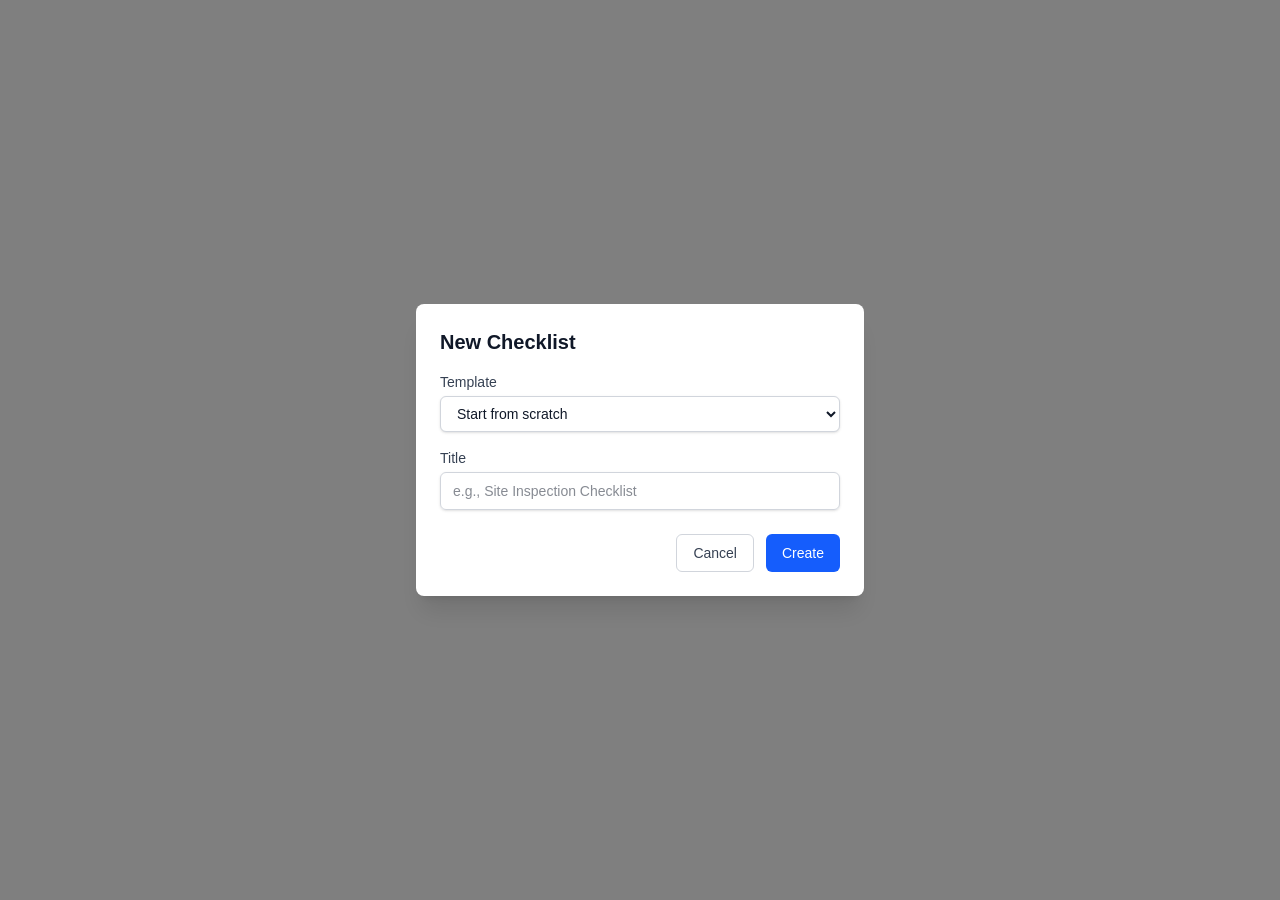
it: CreateChecklistModal › should show error message on insert error
In the field labelled "Title": (640, 491) x1=440 y1=472 x2=840 y2=510, type "Test Checklist"
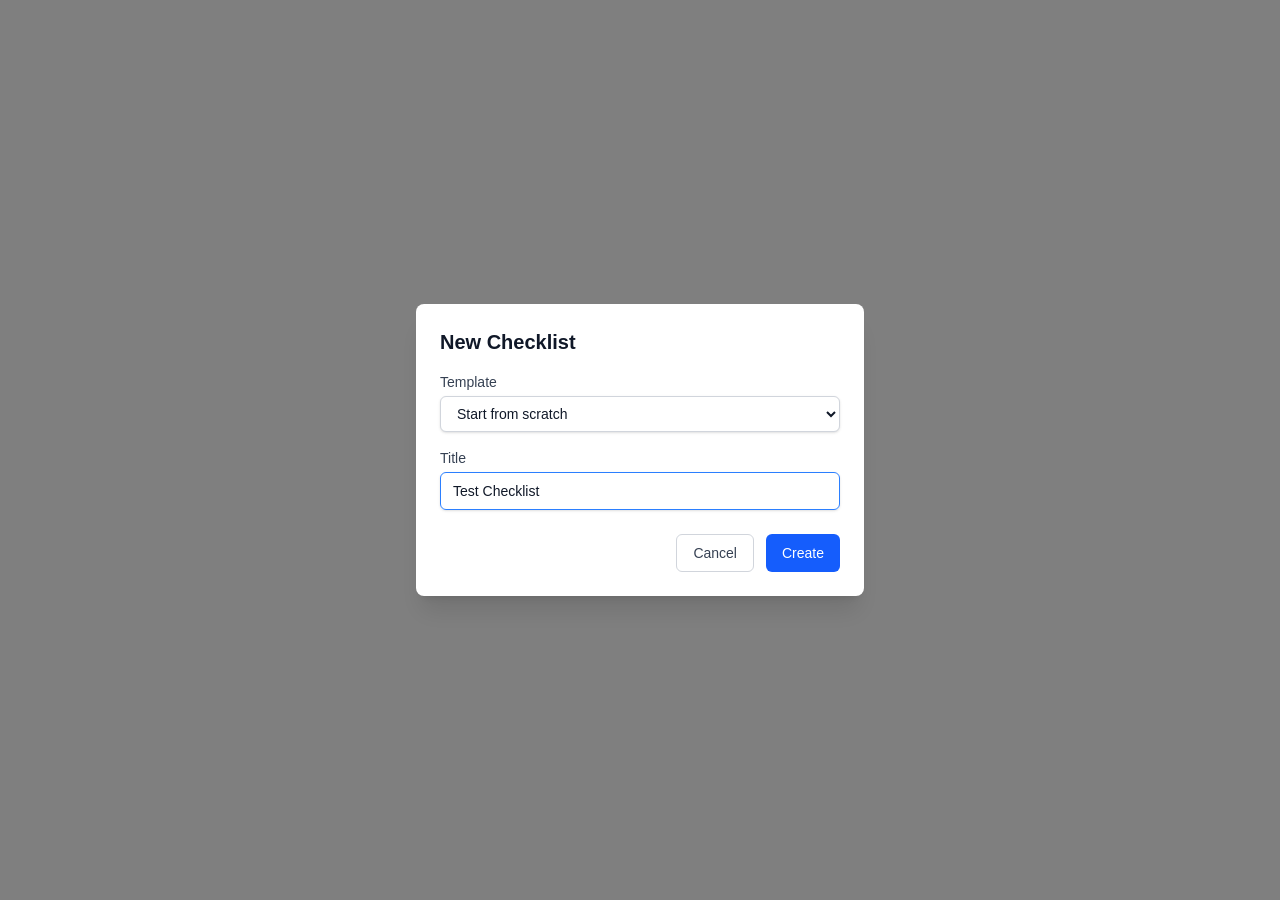
Click the button "Create": (803, 553) x1=766 y1=534 x2=840 y2=572
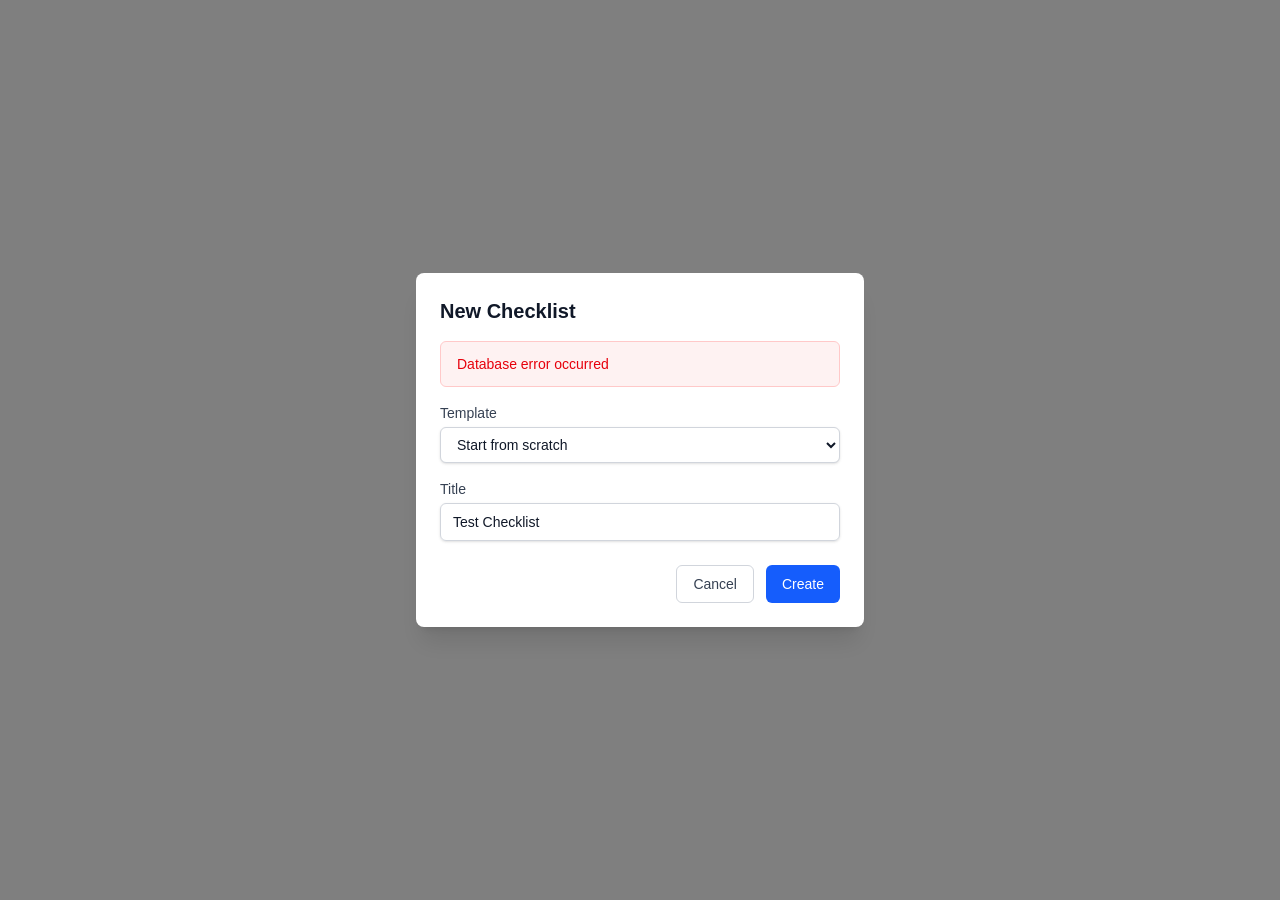
Expected: the text "Database error occurred" is shown, x1=440 y1=341 x2=840 y2=387
